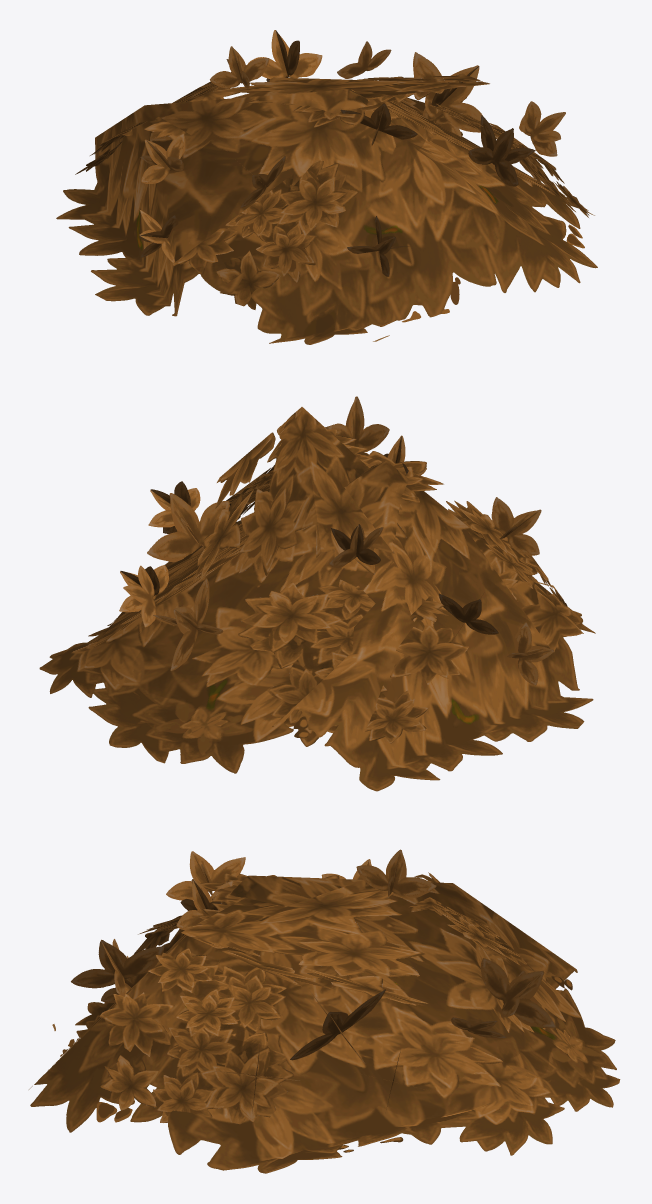
The model's file is 1_Arbusto_Verde_Claro_LOD_1.fbx.
3 views of the same model, one above another, from view 1: azimuth 30°, elevation 25°; view 2: azimuth 150°, elevation 25°; view 3: azimuth 270°, elevation 25° (orthographic). The views are drawn at different scales.
Visible parts, largest first — view 1: 1_Arbusto_Verde_Claro; view 2: 1_Arbusto_Verde_Claro; view 3: 1_Arbusto_Verde_Claro.
Boxes of the visible parts, <box> form: 1_Arbusto_Verde_Claro: <box>56,30,597,344</box>; 1_Arbusto_Verde_Claro: <box>39,396,595,791</box>; 1_Arbusto_Verde_Claro: <box>29,849,620,1173</box>.
Size of the model in its own units: 448 by 174 by 470.
